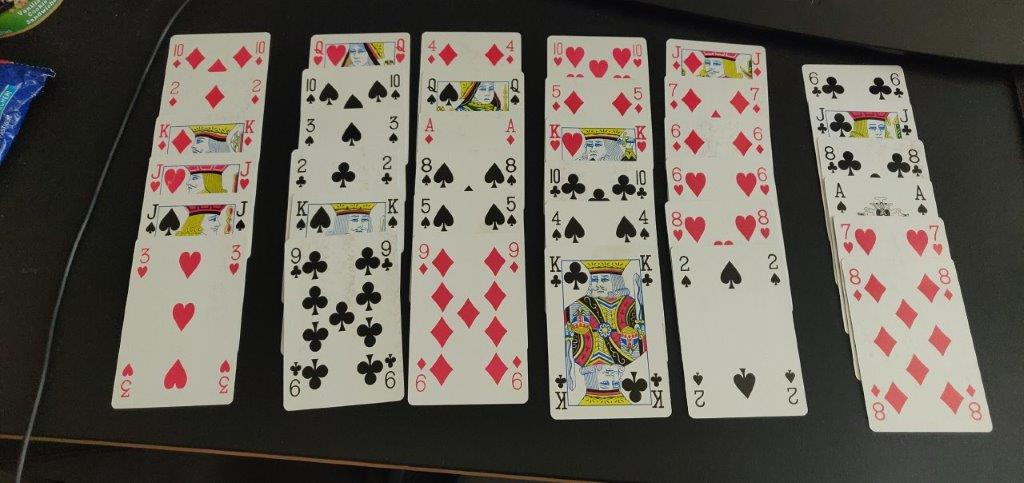10C: (633, 167, 651, 202), (547, 167, 562, 198)
10D: (167, 41, 185, 72), (252, 38, 266, 69)
10H: (549, 38, 566, 69), (631, 42, 646, 69)
10S: (302, 74, 320, 108), (389, 71, 405, 102)
2C: (378, 153, 396, 192), (292, 157, 312, 191)
2D: (165, 77, 185, 108), (248, 77, 262, 106)
2S: (677, 252, 695, 291), (767, 251, 783, 287)
3H: (134, 245, 157, 281), (227, 244, 243, 279)
3S: (303, 114, 321, 150), (385, 113, 402, 147)
4D: (424, 36, 440, 65), (504, 39, 518, 65)
4S: (548, 207, 564, 243), (638, 207, 652, 241)
5D: (631, 83, 648, 117), (548, 82, 565, 115)
5S: (503, 194, 520, 228), (418, 197, 433, 232)
6C: (887, 70, 909, 100), (804, 67, 824, 99)
6D: (669, 121, 684, 155), (752, 126, 768, 156)
6H: (668, 165, 687, 198), (755, 163, 773, 196)
7D: (666, 79, 681, 113), (748, 85, 764, 114)
7H: (837, 218, 857, 257), (928, 219, 948, 257)
8C: (906, 146, 927, 178), (821, 141, 840, 176)
8D: (937, 262, 959, 303), (847, 265, 867, 307)
8H: (667, 207, 685, 243), (756, 206, 773, 240)
8S: (503, 155, 520, 189), (419, 155, 433, 187)
9C: (378, 237, 397, 274), (287, 244, 303, 281)
9D: (416, 241, 432, 276), (506, 239, 520, 275)
AD: (499, 115, 521, 148), (421, 116, 438, 146)
AS: (828, 180, 853, 215), (912, 182, 934, 217)
JC: (812, 104, 831, 135), (897, 106, 915, 137)
JD: (749, 48, 766, 78), (669, 44, 685, 71)
JH: (146, 159, 166, 196), (236, 159, 255, 190)
JS: (141, 202, 161, 236), (232, 197, 250, 234)
KC: (638, 253, 656, 288), (547, 253, 563, 290)
KD: (156, 122, 171, 151), (243, 118, 256, 150)
KH: (633, 120, 650, 154), (548, 121, 564, 152)
KS: (293, 196, 310, 233), (384, 195, 401, 231)
QH: (392, 37, 407, 66), (310, 38, 325, 65)
QS: (422, 76, 440, 107), (508, 75, 524, 109)
